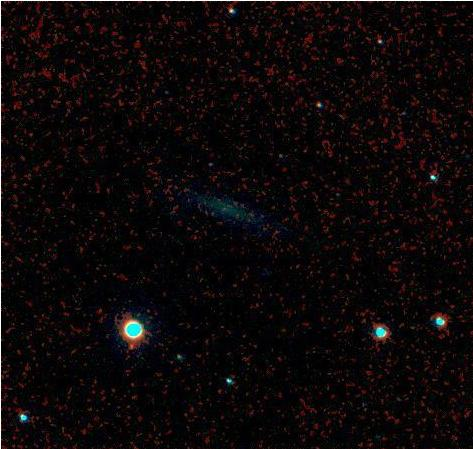star: (113, 328, 143, 358)
